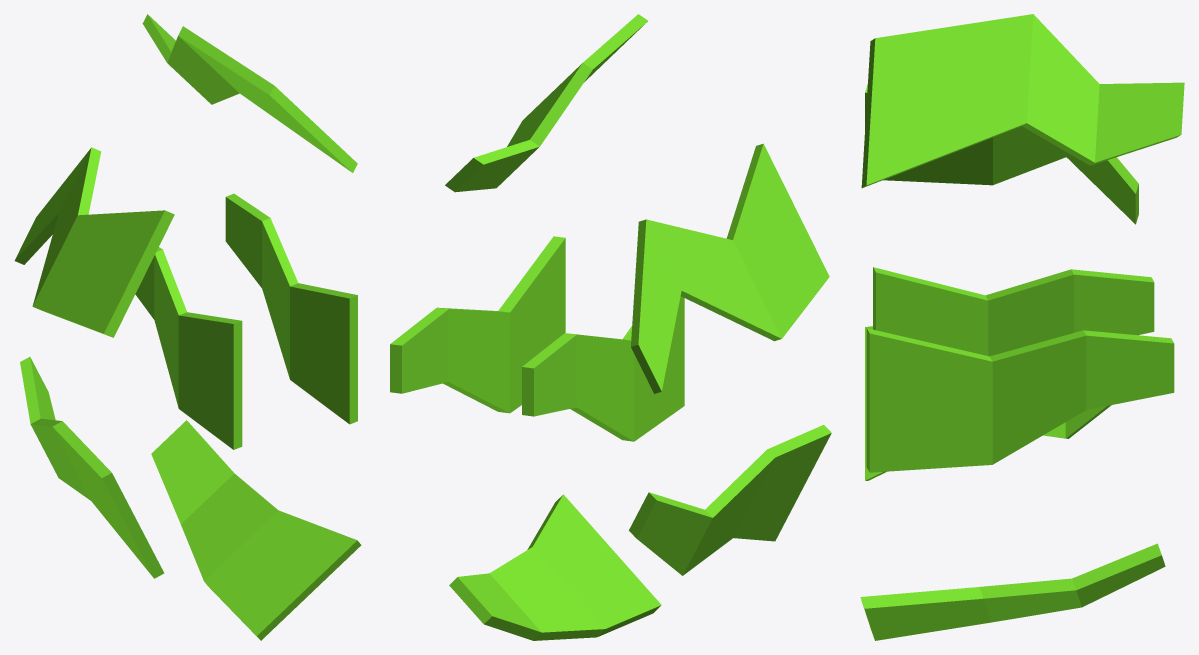
Rendered from Trava.fbx.
3 renders of one model, left to right at view 1: azimuth 30°, elevation 25°; view 2: azimuth 150°, elevation 25°; view 3: azimuth 270°, elevation 25°, orthographic. The views are drawn at different scales.
Parts seen in each view (by area): view 1: Plane.003; view 2: Plane.003; view 3: Plane.003.
Boxes of the visible parts, box(x1,y1,x2,y2) form: Plane.003: box(14, 14, 361, 640); Plane.003: box(390, 14, 831, 640); Plane.003: box(860, 14, 1184, 640).
Size of the model in its own units: 0.1601 by 0.3058 by 0.1441.
